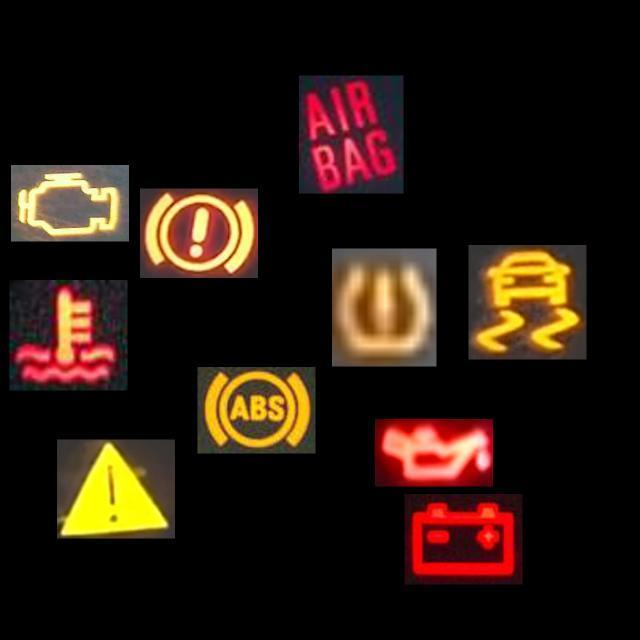Central Warning lamp: (57, 439, 175, 538)
Engine cooling system: (9, 280, 128, 390)
